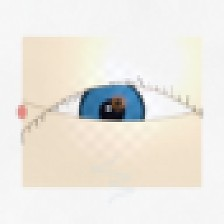foreign_body_visible: (96, 86, 140, 121)
